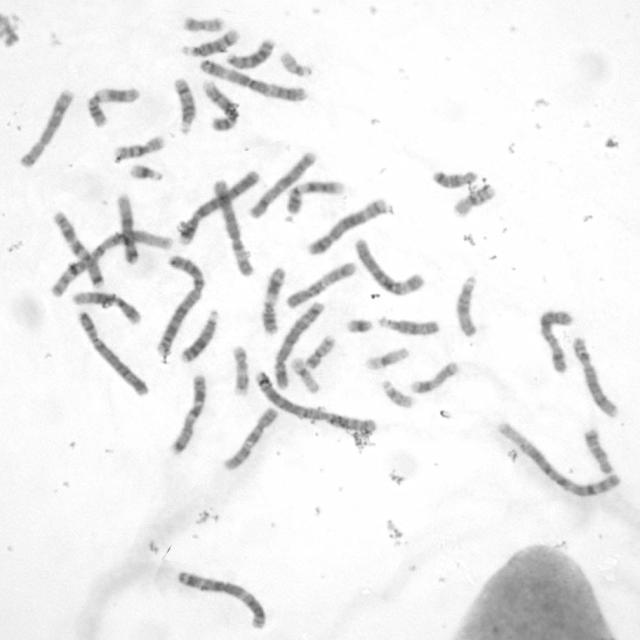A1: (494, 418, 622, 499), (46, 225, 174, 298)
A2: (249, 366, 378, 435), (152, 250, 206, 358)
A3: (172, 566, 270, 632), (195, 55, 309, 104)
B4: (173, 166, 262, 246), (75, 307, 152, 398)
B5: (304, 194, 390, 257), (270, 298, 326, 391)
C10: (218, 402, 280, 472), (282, 258, 358, 311)
C11: (83, 83, 140, 129), (258, 263, 288, 337)
C12: (70, 288, 143, 326), (114, 192, 140, 265)
C6: (352, 234, 426, 297), (210, 175, 255, 277)
C7: (49, 207, 107, 290), (166, 369, 208, 456)
C8: (16, 85, 75, 170), (570, 333, 620, 420)
C9: (282, 177, 347, 216), (200, 77, 240, 133)
D13: (178, 307, 220, 363), (223, 34, 275, 70)
D14: (178, 26, 242, 58), (170, 74, 198, 136)
D15: (452, 273, 481, 339), (376, 313, 442, 338)
E16: (449, 180, 498, 218), (111, 132, 165, 162)
E17: (408, 358, 460, 395), (229, 342, 251, 397)
E18: (581, 425, 615, 475), (429, 166, 478, 190)
F19: (288, 354, 323, 395), (362, 344, 411, 372)
F20: (301, 332, 338, 372), (180, 13, 226, 33)
G21: (126, 160, 166, 182), (344, 315, 375, 335)
G22: (379, 377, 415, 410), (278, 49, 314, 78)
X: (246, 147, 317, 220), (535, 307, 575, 375)
